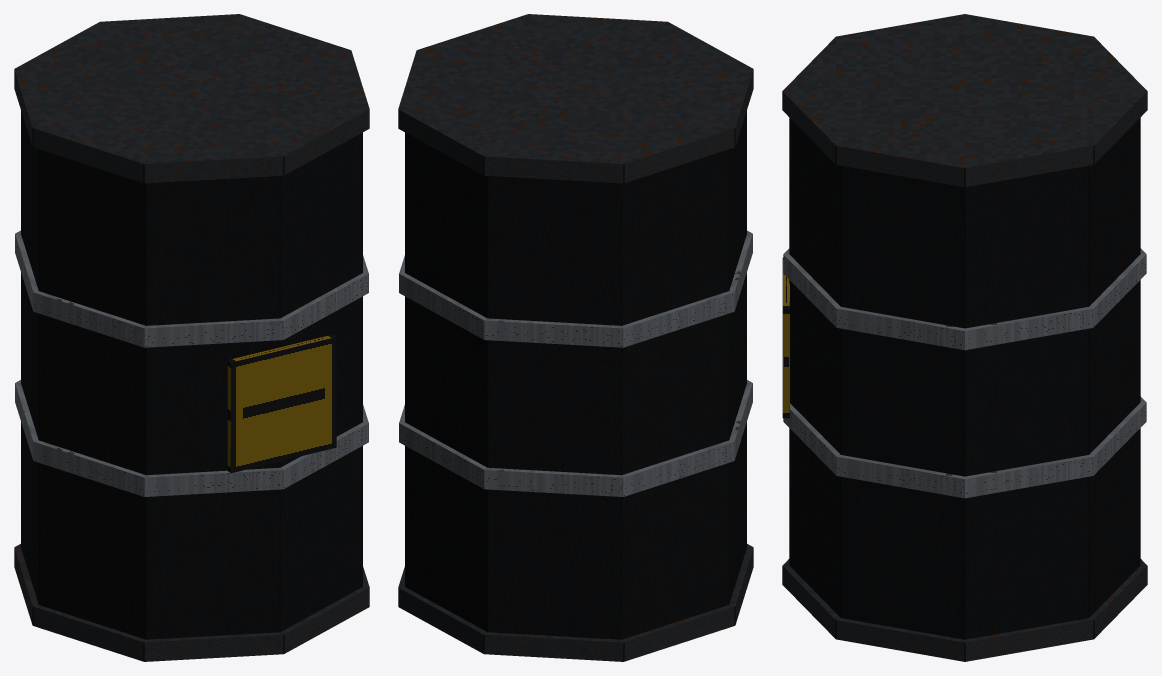
File: chemical_drum.glb
3 renders of one model, left to right at view 1: azimuth 30°, elevation 25°; view 2: azimuth 150°, elevation 25°; view 3: azimuth 270°, elevation 25°, orthographic.
Visible parts, largest first — view 1: chemical_drum; view 2: chemical_drum; view 3: chemical_drum.
Part boxes in pixels (x1=…): chemical_drum: x1=14, y1=14, x2=369, y2=661; chemical_drum: x1=398, y1=14, x2=753, y2=661; chemical_drum: x1=782, y1=14, x2=1147, y2=661.
Bounding box in the file's own units: 0.6032 × 0.9 × 0.6032.
Materials: 1 (1 with a texture image).
